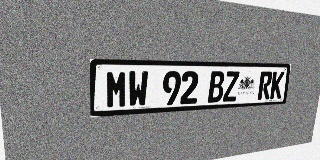2: (180, 71, 199, 104)
9: (162, 71, 181, 105)
B: (208, 71, 225, 103)
K: (270, 72, 285, 99)
M: (106, 71, 127, 109)
R: (257, 71, 273, 100)
W: (128, 71, 148, 107)
Z: (223, 71, 240, 102)
